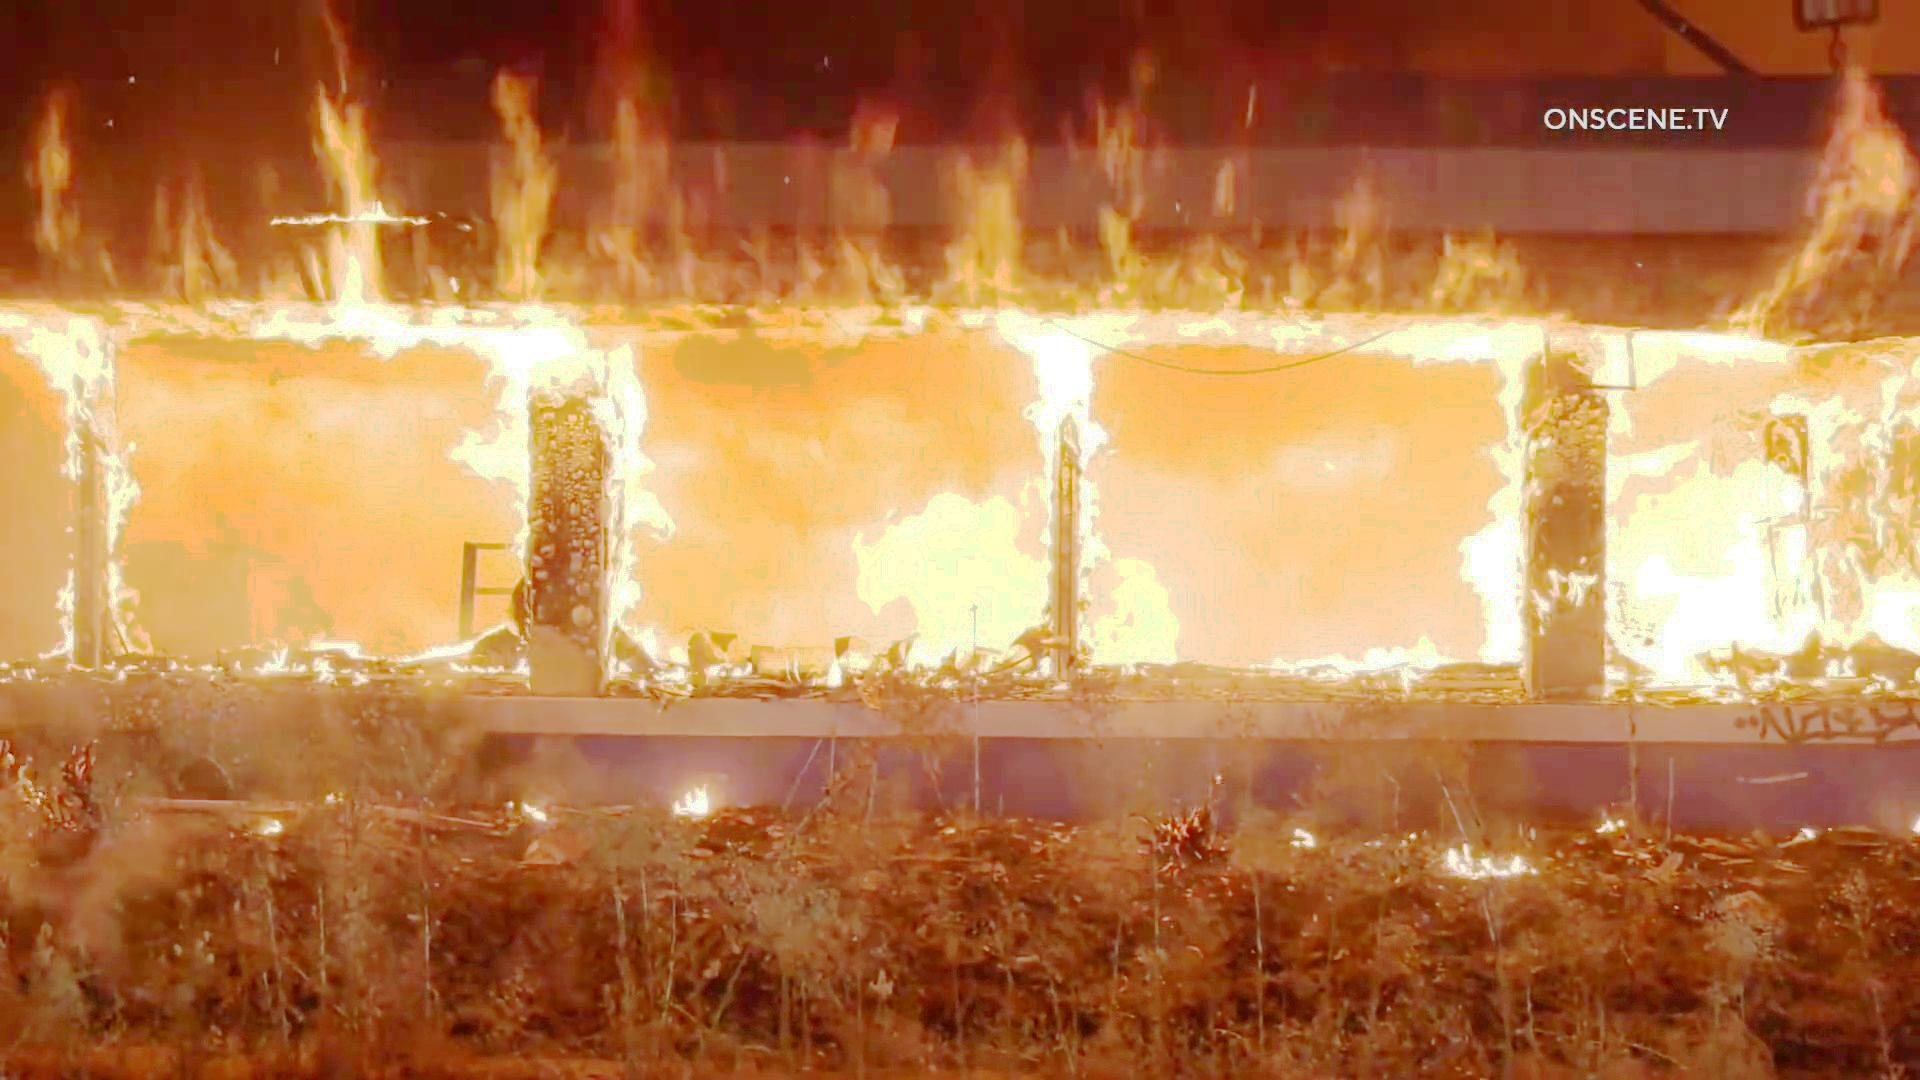fire: (44, 21, 512, 638), (596, 21, 1027, 641), (1105, 55, 1520, 661), (1625, 140, 1911, 692)
